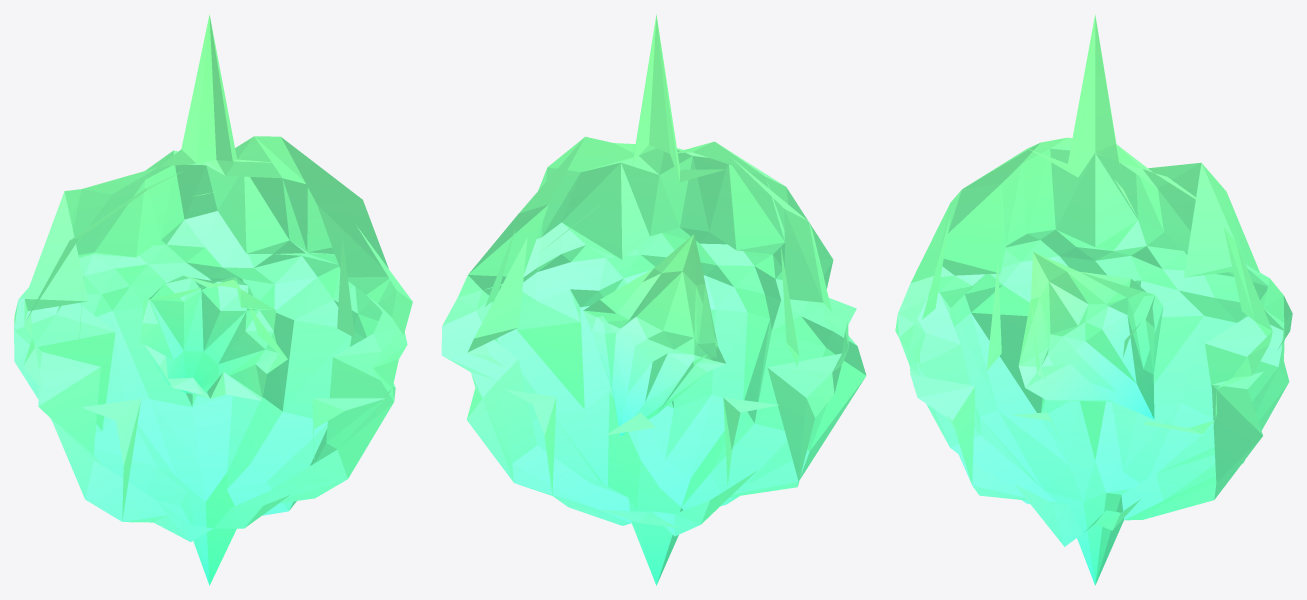
Rendered from lumen.glb.
The picture shows the model from 3 angles, left to right: view 1: azimuth 30°, elevation 25°; view 2: azimuth 150°, elevation 25°; view 3: azimuth 270°, elevation 25°; orthographic projection.
Parts seen in each view (by area): view 1: outer_lumen, inner_lumen; view 2: outer_lumen, inner_lumen; view 3: outer_lumen, inner_lumen.
Part boxes in pixels (<box>): outer_lumen: <box>14,14,412,585</box>; inner_lumen: <box>140,275,287,400</box>; outer_lumen: <box>441,14,866,585</box>; inner_lumen: <box>583,234,725,436</box>; outer_lumen: <box>895,14,1292,585</box>; inner_lumen: <box>1018,252,1163,419</box>.
Size of the model in its own units: 5.84 by 9.34 by 5.88.
